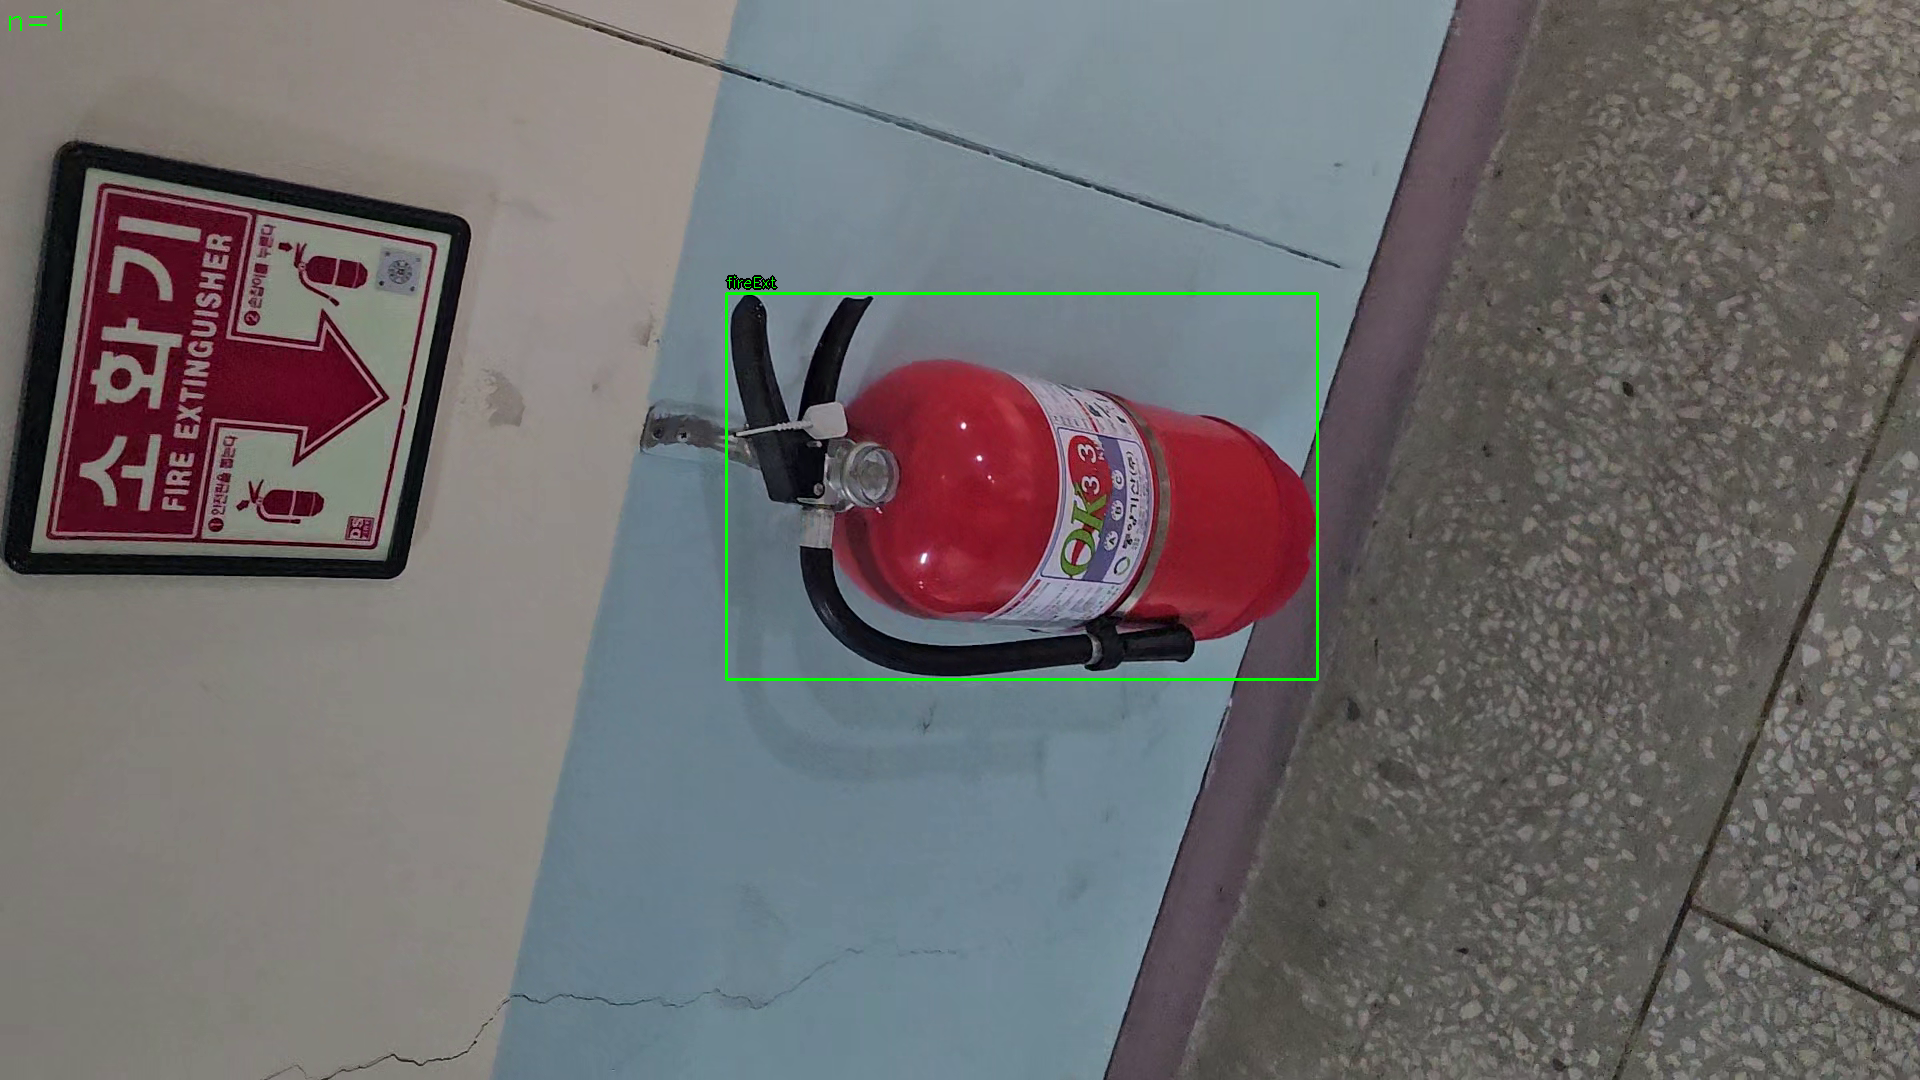lane: (727, 293, 1317, 680)
